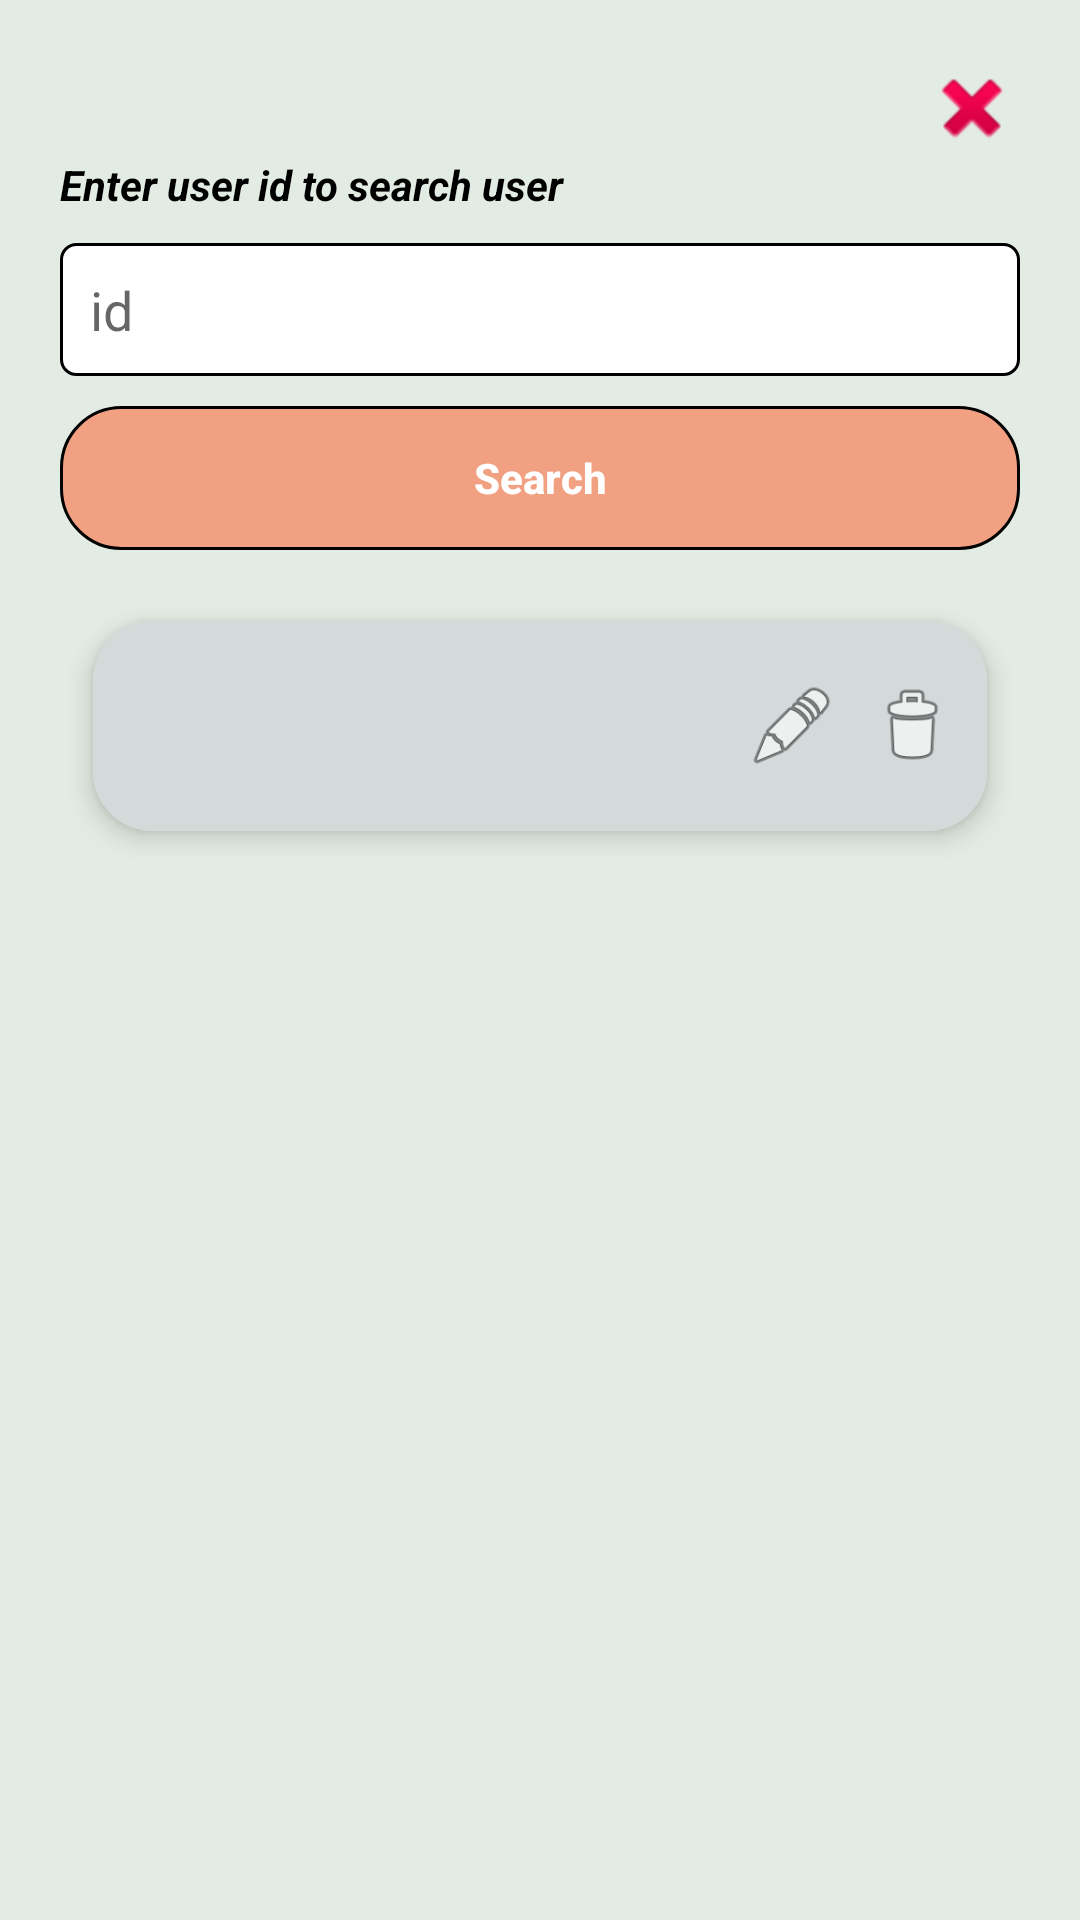

Screen size 1080×1920. Icon name, then its center in pixels as (x,y):
delete: (972,108), (912,724)
edit: (792,725)
